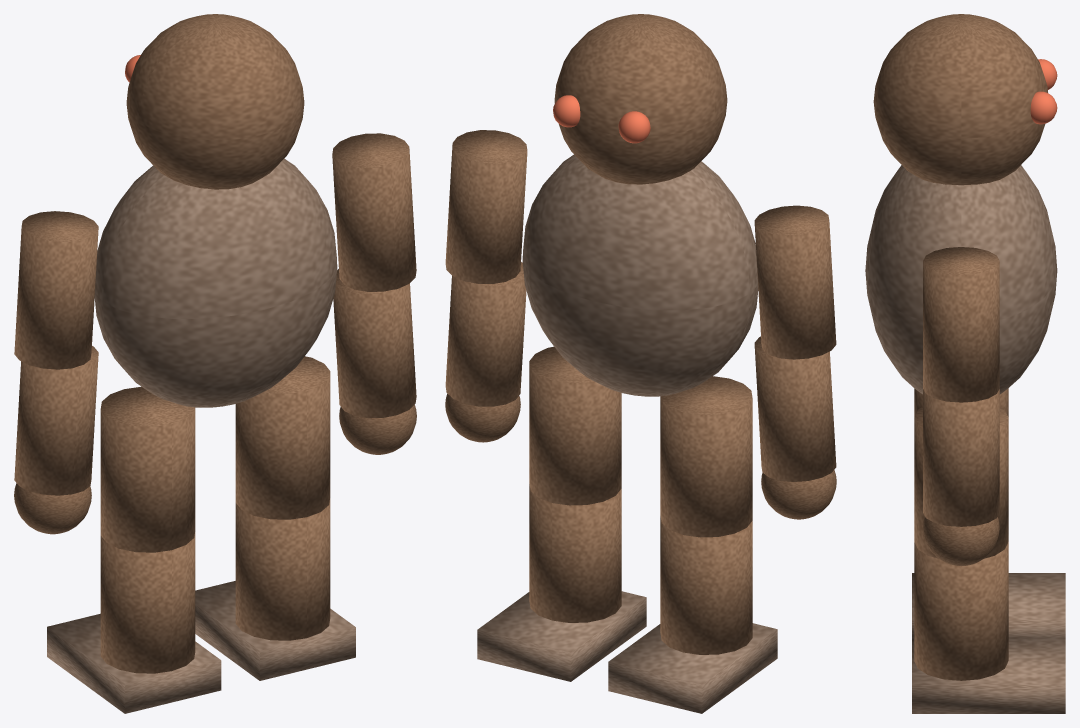
The model's file is redcap.glb.
The picture shows the model from 3 angles, left to right: view 1: azimuth 30°, elevation 25°; view 2: azimuth 150°, elevation 25°; view 3: azimuth 270°, elevation 25°; orthographic projection. The views are drawn at different scales.
Parts seen in each view (by area): view 1: Torso, Head, ThighL, ThighR, UpperArmR, UpperArmL, ShinR, ShinL, ForearmL, ForearmR, FootL, FootR (+2 smaller); view 2: Torso, Head, ThighL, ThighR, UpperArmR, UpperArmL, ShinR, ShinL, ForearmL, ForearmR, FootL, FootR (+4 smaller); view 3: Torso, Head, UpperArmR, ShinR, ForearmR, FootR, FootL, ThighR, HandR, Eye.001, ThighL, Eye.
Boxes of the visible parts, bbox=[...] form: Torso: bbox=[94, 158, 337, 407]; Head: bbox=[126, 14, 304, 189]; ThighL: bbox=[100, 386, 195, 552]; ThighR: bbox=[235, 356, 330, 519]; UpperArmR: bbox=[332, 133, 416, 291]; UpperArmL: bbox=[14, 211, 98, 369]; ShinR: bbox=[235, 498, 330, 640]; ShinL: bbox=[100, 532, 195, 673]; ForearmL: bbox=[14, 346, 98, 495]; ForearmR: bbox=[333, 269, 416, 418]; FootL: bbox=[47, 613, 221, 713]; FootR: bbox=[195, 581, 355, 680]; Torso: bbox=[522, 154, 758, 396]; Head: bbox=[554, 14, 727, 184]; ThighL: bbox=[660, 376, 752, 537]; ThighR: bbox=[529, 346, 621, 505]; UpperArmR: bbox=[445, 130, 527, 283]; UpperArmL: bbox=[754, 205, 836, 359]; ShinR: bbox=[529, 484, 621, 622]; ShinL: bbox=[660, 516, 752, 654]; ForearmL: bbox=[754, 336, 836, 481]; ForearmR: bbox=[445, 262, 526, 406]; FootL: bbox=[608, 623, 777, 713]; FootR: bbox=[477, 591, 646, 681]; Torso: bbox=[865, 165, 1057, 394]; Head: bbox=[873, 14, 1047, 185]; UpperArmR: bbox=[923, 247, 999, 402]; ShinR: bbox=[914, 542, 1008, 680]; ForearmR: bbox=[923, 389, 999, 526]; FootR: bbox=[912, 637, 1065, 713]; FootL: bbox=[912, 573, 1065, 637]; ThighR: bbox=[914, 407, 1008, 558]; HandR: bbox=[923, 517, 999, 566]; Eye.001: bbox=[1030, 91, 1057, 124]; ThighL: bbox=[914, 388, 1008, 416]; Eye: bbox=[1038, 59, 1057, 89].
Size of the model in its own units: 0.6367 by 1 by 0.2852.
3 materials, 2 textured.
